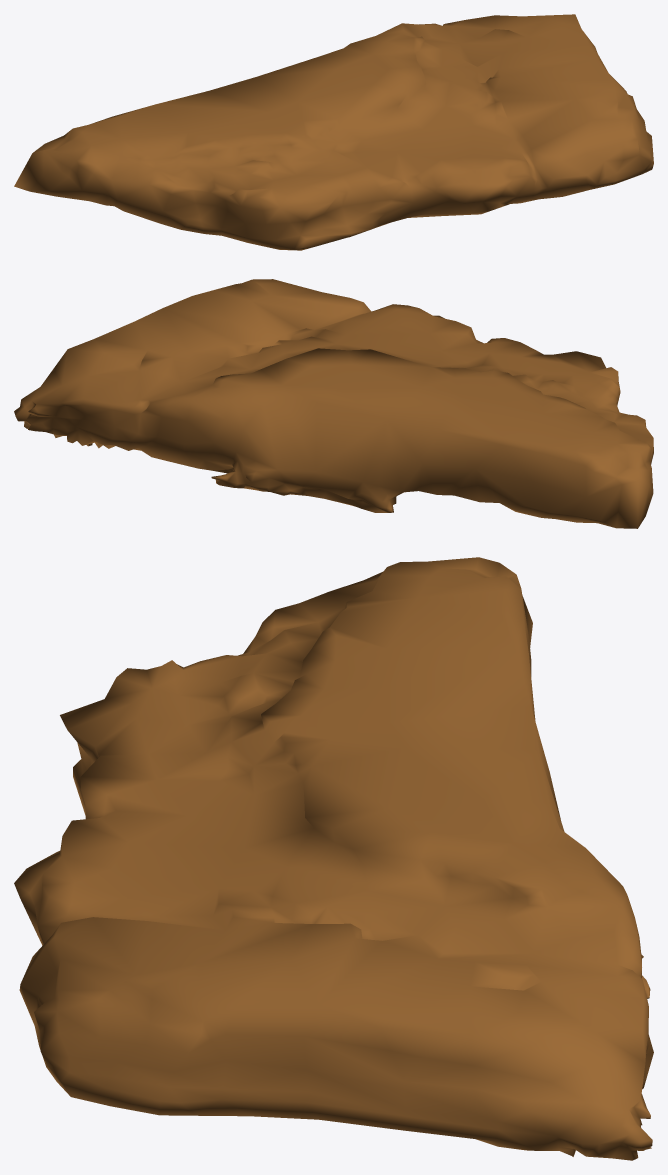
Rendered from MSH_Rocks_Boulder_33.FBX.
The picture shows the model from 3 angles, top to bottom: view 1: azimuth 30°, elevation 25°; view 2: azimuth 150°, elevation 25°; view 3: azimuth 270°, elevation 25°; orthographic projection. The views are drawn at different scales.
Parts seen in each view (by area): view 1: MESH_LOD0; view 2: MESH_LOD0; view 3: MESH_LOD0.
Boxes of the visible parts, x1,y1,x2,y2 form: MESH_LOD0: (14, 14, 653, 250); MESH_LOD0: (14, 279, 653, 528); MESH_LOD0: (14, 557, 653, 1160).
Size of what is drawn, in the model's own units: 248 by 37.73 by 131.
